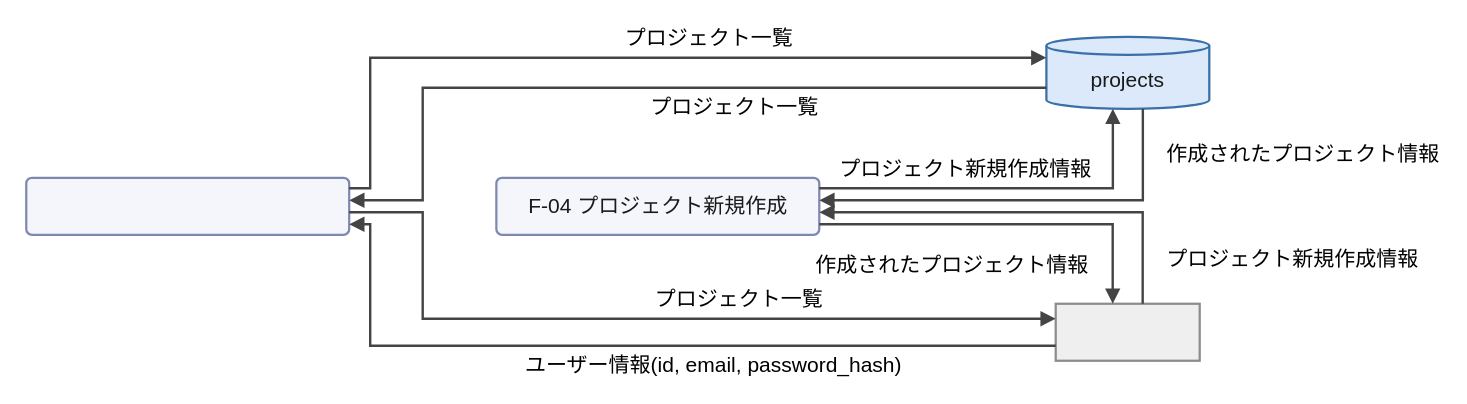
This 1467x404 diagram has some shape labels left out. Each missing label, with the box of its shape:
F-03 プロジェクト一覧取得: (24, 176, 350, 235)
ユーザー: (1054, 302, 1200, 361)
